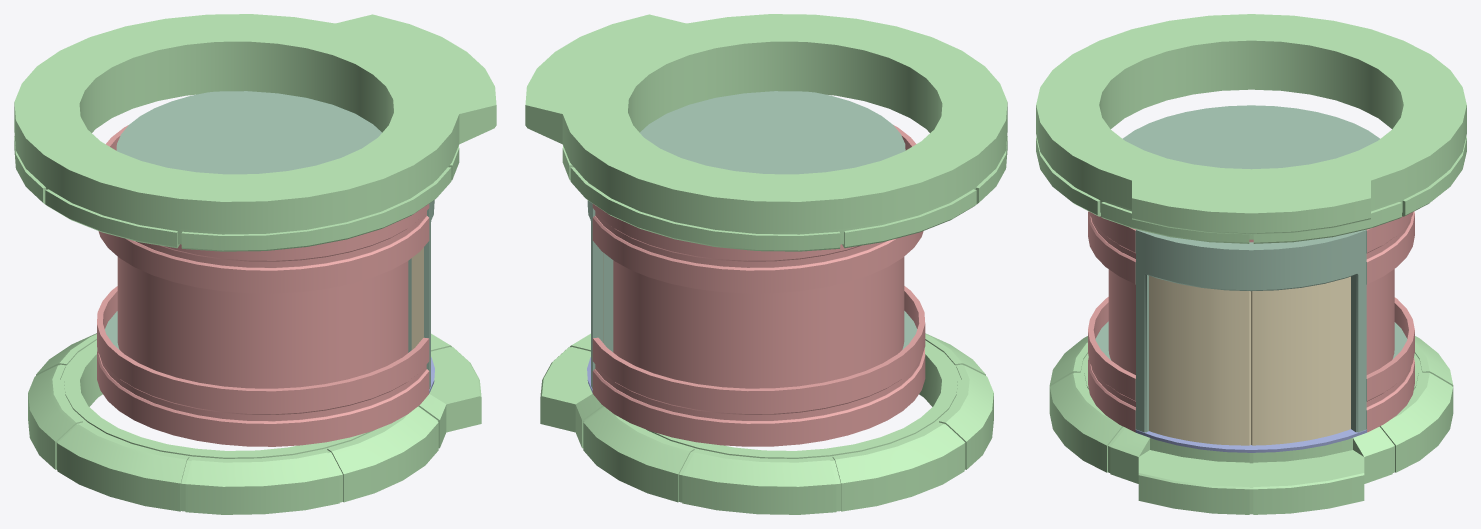
File: Elevator_test.fbx
3 renders of one model, left to right at view 1: azimuth 30°, elevation 25°; view 2: azimuth 150°, elevation 25°; view 3: azimuth 270°, elevation 25°, orthographic. The views are drawn at different scales.
Parts seen in each view (by area): view 1: static_prop_33|elevator_caps_elevator_caps_reference|Dupli|, elevator_body_model|Round_Elevator_body_reference.smd|Dupli|, elevator_door_model_middle|Round_elevator_doors_reference.sm; view 2: static_prop_33|elevator_caps_elevator_caps_reference|Dupli|, elevator_body_model|Round_Elevator_body_reference.smd|Dupli|; view 3: static_prop_33|elevator_caps_elevator_caps_reference|Dupli|, elevator_body_model|Round_Elevator_body_reference.smd|Dupli|, elevator_door_model_middle|Round_elevator_doors_reference.sm (×2).
Boxes of the visible parts, box(x1,y1,x2,y2) form: static_prop_33|elevator_caps_elevator_caps_reference|Dupli|: box(14, 14, 496, 514); elevator_body_model|Round_Elevator_body_reference.smd|Dupli|: box(97, 91, 434, 446); elevator_door_model_middle|Round_elevator_doors_reference.sm: box(411, 247, 423, 349); static_prop_33|elevator_caps_elevator_caps_reference|Dupli|: box(525, 14, 1007, 514); elevator_body_model|Round_Elevator_body_reference.smd|Dupli|: box(587, 91, 925, 446); static_prop_33|elevator_caps_elevator_caps_reference|Dupli|: box(1036, 14, 1466, 514); elevator_body_model|Round_Elevator_body_reference.smd|Dupli|: box(1088, 105, 1414, 452); elevator_door_model_middle|Round_elevator_doors_reference.sm (×2): box(1149, 275, 1350, 445).
Bounding box in the file's own units: 534 × 385 × 488.
